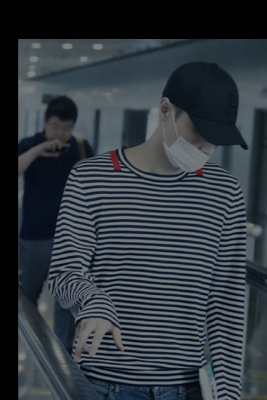mask_weared_incorrect: (166, 113, 219, 171)
without_mask: (45, 116, 74, 144)
